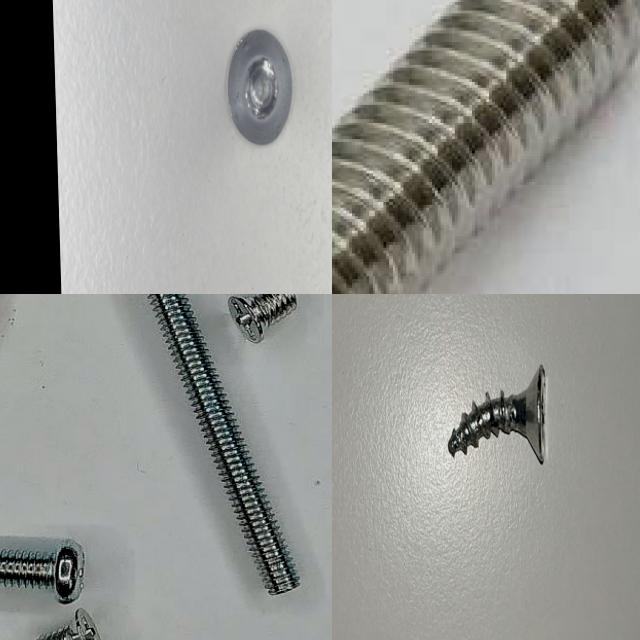Screw: (332, 0, 640, 294), (149, 294, 300, 595), (448, 365, 546, 463), (228, 30, 292, 144), (0, 537, 85, 604), (229, 294, 298, 343), (38, 611, 101, 640)
